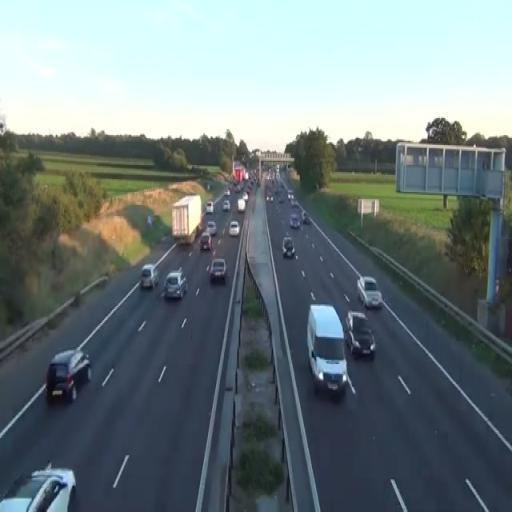Car: (307, 303, 348, 397), (0, 465, 77, 512), (45, 348, 92, 404), (344, 310, 377, 360), (162, 268, 188, 301), (357, 276, 382, 310), (140, 264, 160, 289), (209, 259, 227, 284), (282, 236, 296, 260), (200, 233, 212, 251), (205, 220, 217, 238), (229, 220, 240, 238)
Truck: (307, 303, 348, 397), (172, 194, 202, 244)
